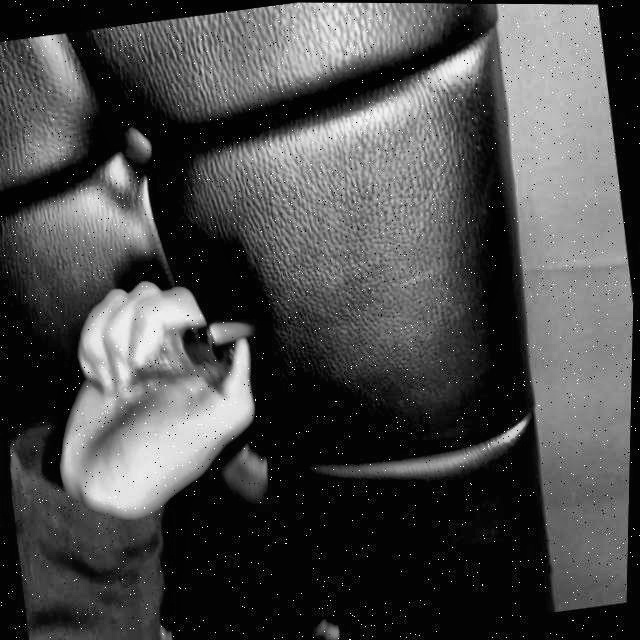Fire: (207, 317, 259, 350)
